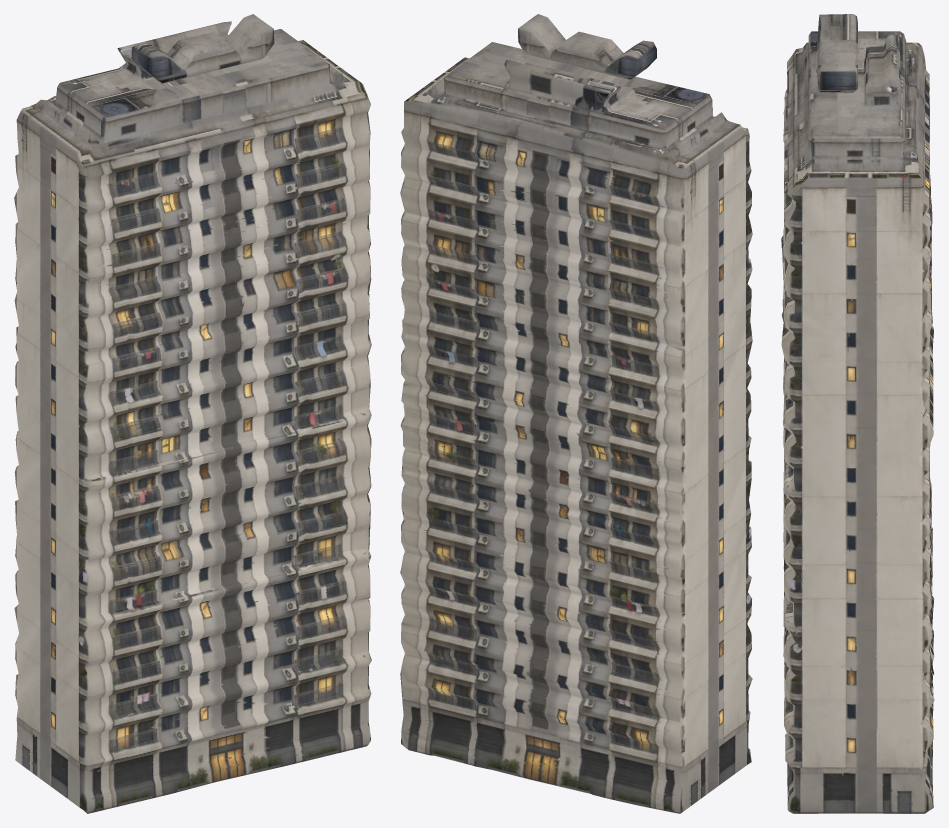
Rendered from tower-res.glb.
3 renders of one model, left to right at view 1: azimuth 30°, elevation 25°; view 2: azimuth 150°, elevation 25°; view 3: azimuth 270°, elevation 25°, orthographic. The views are drawn at different scales.
Parts seen in each view (by area): view 1: tower-res; view 2: tower-res; view 3: tower-res.
Part boxes in pixels (x1,y1,x2,y2): tower-res: [14, 14, 371, 813]; tower-res: [400, 14, 752, 813]; tower-res: [781, 14, 934, 813].
Bounding box in the file's own units: 36 × 86.16 × 16.97.
1 material, 1 textured.
